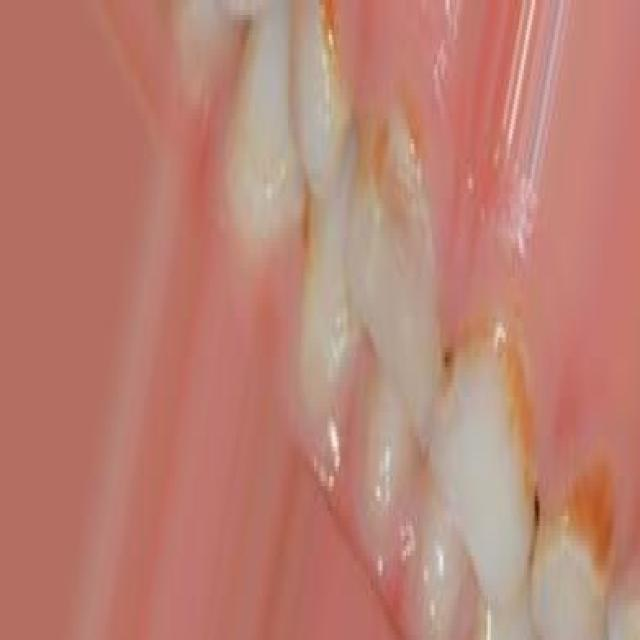caries: (436, 290, 550, 482), (361, 81, 426, 284), (552, 436, 624, 608), (314, 0, 350, 138)
